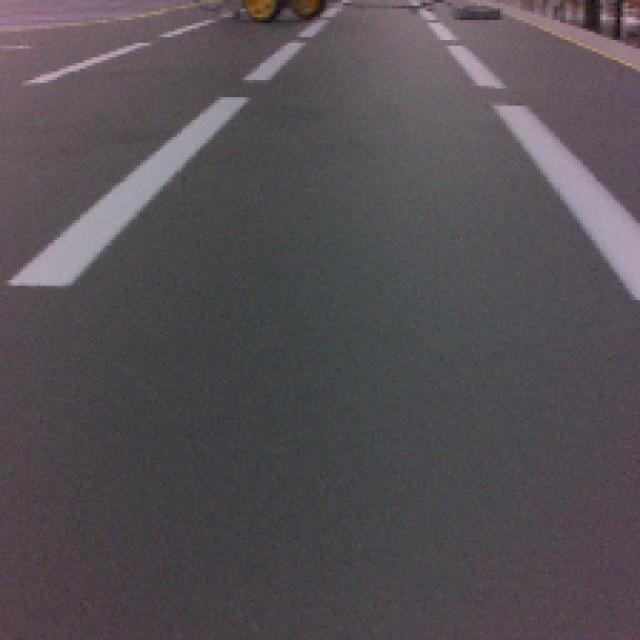Road: (0, 233, 640, 640)
